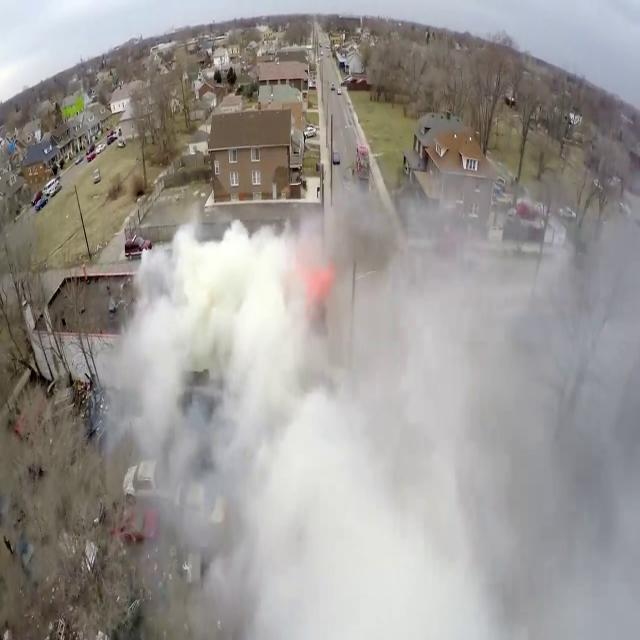Smoke: (98, 176, 640, 638)
